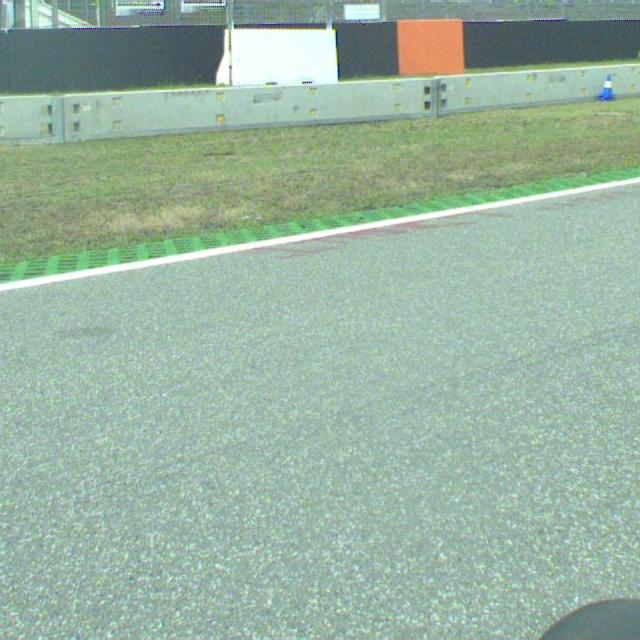Safety Cone: (601, 75, 615, 100)
